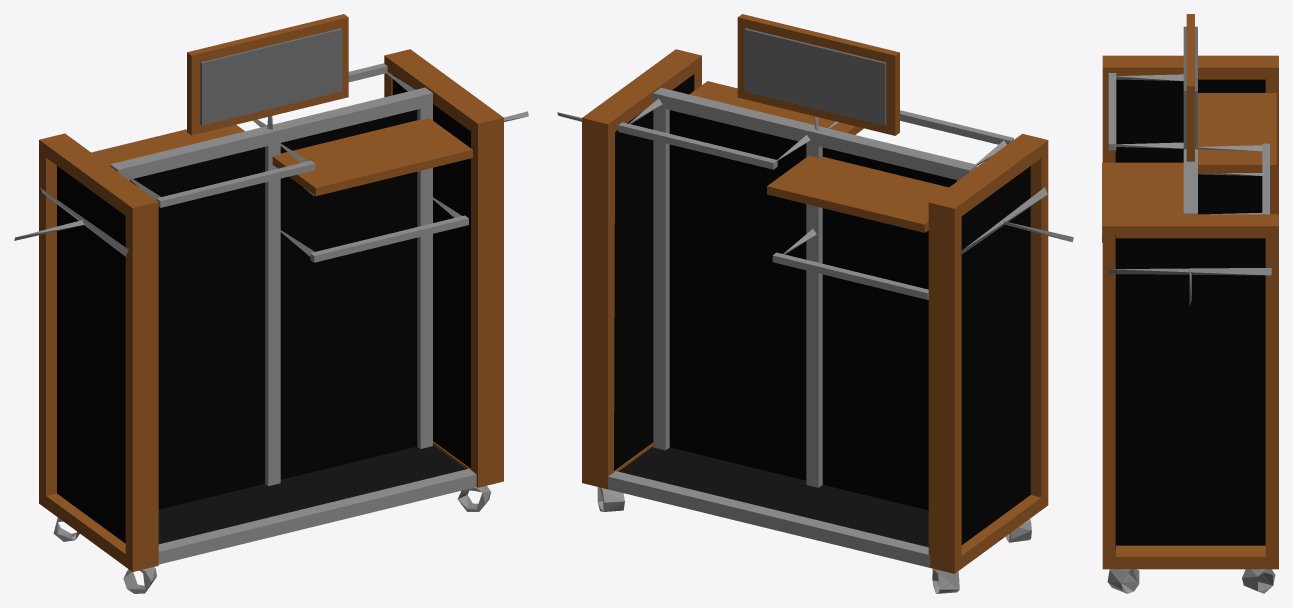
File: ss-clothes-rack.lod1.glb
3 renders of one model, left to right at view 1: azimuth 30°, elevation 25°; view 2: azimuth 150°, elevation 25°; view 3: azimuth 270°, elevation 25°, orthographic. The views are drawn at different scales.
Visible parts, largest first — view 1: Object_5; view 2: Object_5; view 3: Object_5.
Boxes of the visible parts, box(x1,y1,x2,y2) form: Object_5: box(14, 14, 528, 593); Object_5: box(557, 14, 1073, 593); Object_5: box(1102, 14, 1278, 593).
Bounding box in the file's own units: 1.58 × 1.44 × 0.4994.
